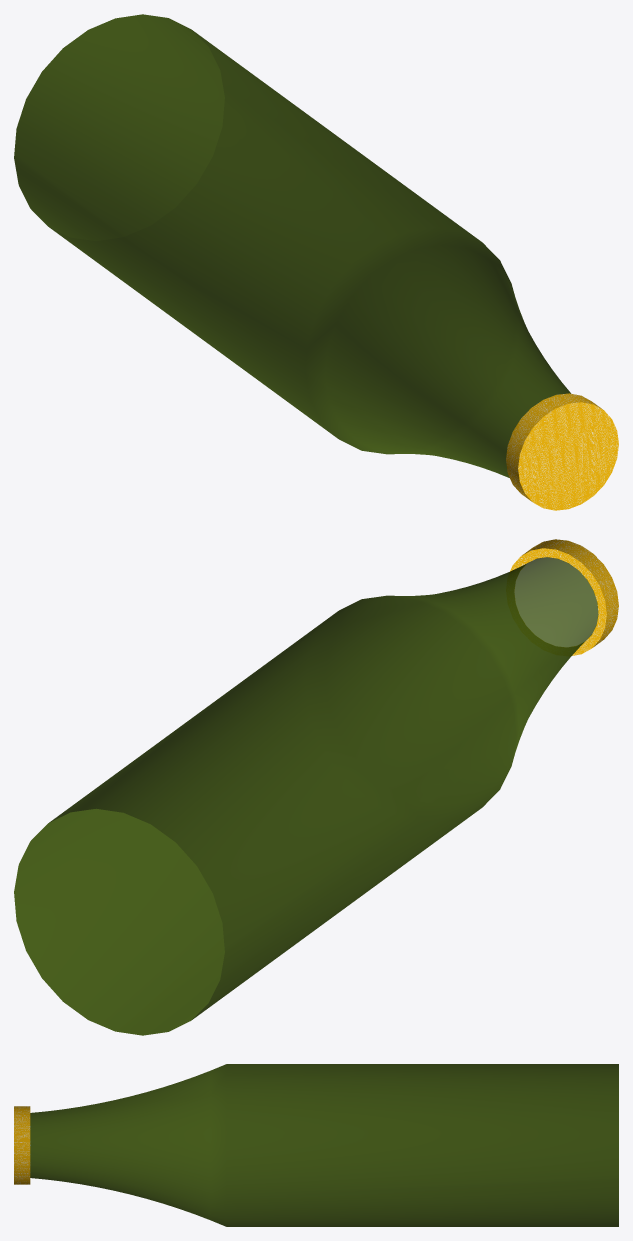
The model's file is model_scale.obj.
The picture shows the model from 3 angles, top to bottom: view 1: azimuth 30°, elevation 25°; view 2: azimuth 150°, elevation 25°; view 3: azimuth 270°, elevation 25°; orthographic projection. The views are drawn at different scales.
Visible parts, largest first — view 1: mesh1_mesh1-geometry; view 2: mesh1_mesh1-geometry; view 3: mesh1_mesh1-geometry.
Boxes of the visible parts, box(x1,y1,x2,y2) form: mesh1_mesh1-geometry: box(14, 14, 618, 510); mesh1_mesh1-geometry: box(14, 539, 618, 1035); mesh1_mesh1-geometry: box(14, 1064, 618, 1226).
Size of the model in its own units: 0.0695 by 0.0695 by 0.2564.
